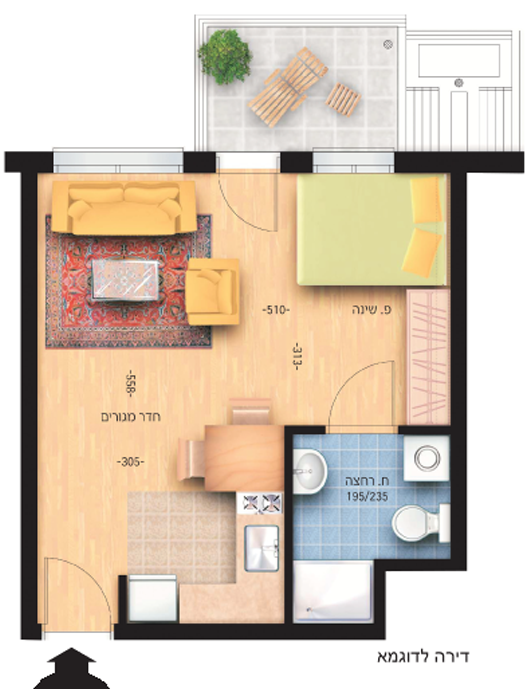door: (42, 549, 118, 620), (318, 348, 394, 419), (214, 175, 286, 238)
wall: (22, 151, 37, 637), (451, 152, 467, 571), (113, 623, 385, 639), (283, 425, 291, 623), (374, 560, 451, 571)
window: (53, 151, 183, 174), (312, 150, 396, 175)
